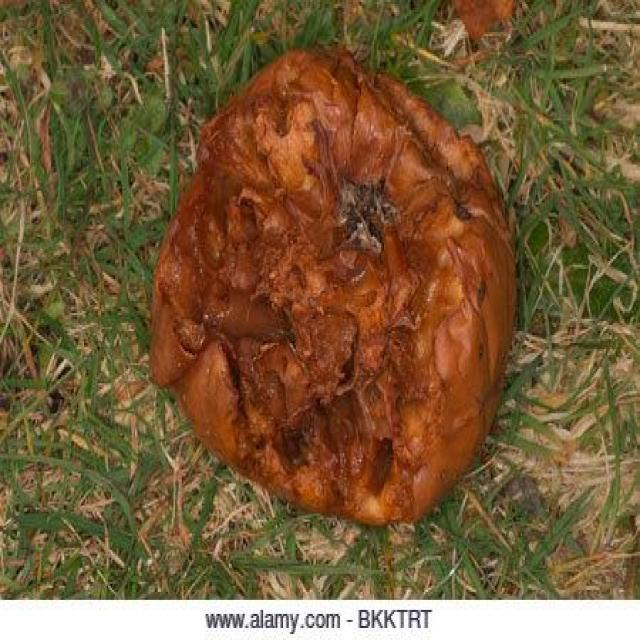Apple: (152, 53, 512, 543)
